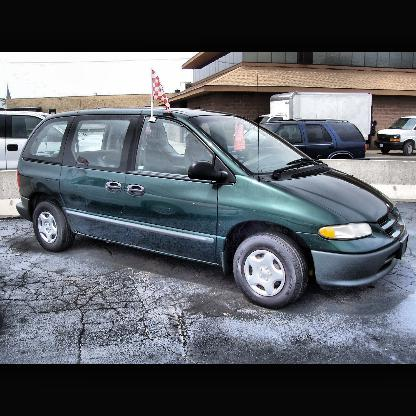Dodge Caravan Minivan 1997: (16, 106, 410, 309)
